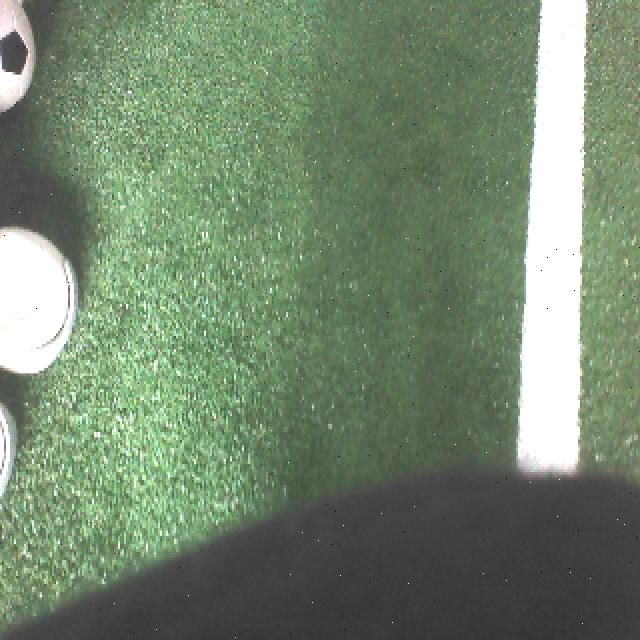ball: (0, 0, 38, 115)
